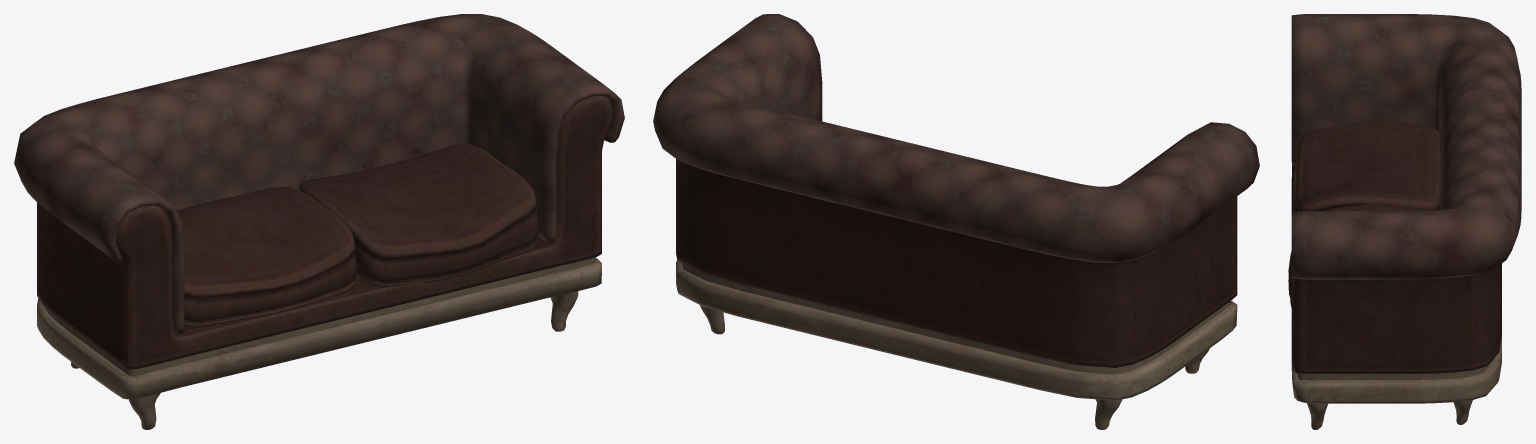
File: big_sofa_1.glb
3 renders of one model, left to right at view 1: azimuth 30°, elevation 25°; view 2: azimuth 150°, elevation 25°; view 3: azimuth 270°, elevation 25°, orthographic. The views are drawn at different scales.
Visible parts, largest first — view 1: cloth.014, cloth.015, cloth.013; view 2: cloth.014; view 3: cloth.014, cloth.013, cloth.015.
Part boxes in pixels (x1,y1,x2,y2): cloth.014: (14, 14, 624, 429); cloth.015: (299, 144, 538, 287); cloth.013: (176, 186, 357, 327); cloth.014: (653, 14, 1259, 429); cloth.014: (1291, 14, 1521, 429); cloth.013: (1294, 121, 1440, 211); cloth.015: (1288, 204, 1428, 307).
Bounding box in the file's own units: 1.97 × 0.8926 × 0.8534.
Materials: 1 (1 with a texture image).
